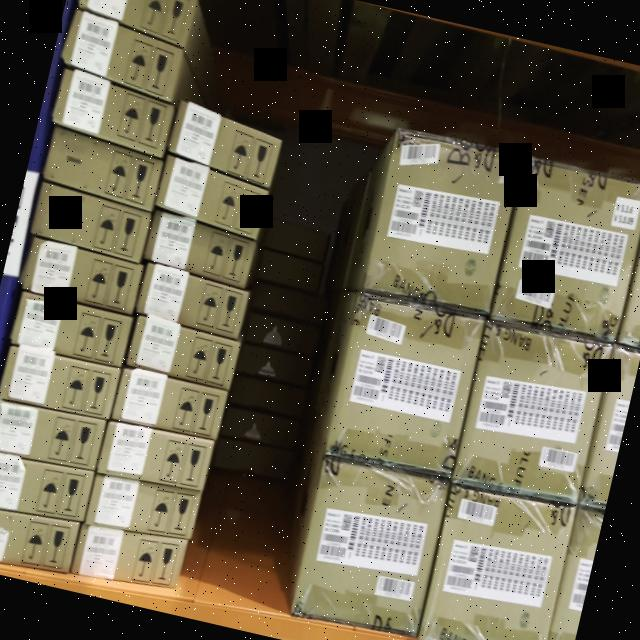box: (356, 124, 525, 320), (454, 317, 614, 504), (290, 455, 452, 634), (324, 297, 486, 474), (490, 156, 640, 340), (419, 484, 576, 640), (61, 10, 190, 102), (50, 65, 180, 156), (42, 124, 167, 212), (164, 100, 284, 186), (9, 290, 133, 372), (155, 152, 272, 238), (28, 185, 155, 264), (579, 345, 640, 507), (0, 342, 121, 422), (135, 260, 251, 340), (22, 238, 144, 314), (96, 418, 213, 494), (111, 368, 226, 444), (125, 313, 242, 387), (144, 215, 258, 289), (73, 520, 189, 592), (84, 473, 198, 543), (545, 505, 604, 640), (0, 398, 106, 468), (0, 448, 94, 523), (0, 501, 81, 578), (75, 0, 202, 46), (616, 183, 640, 357)
